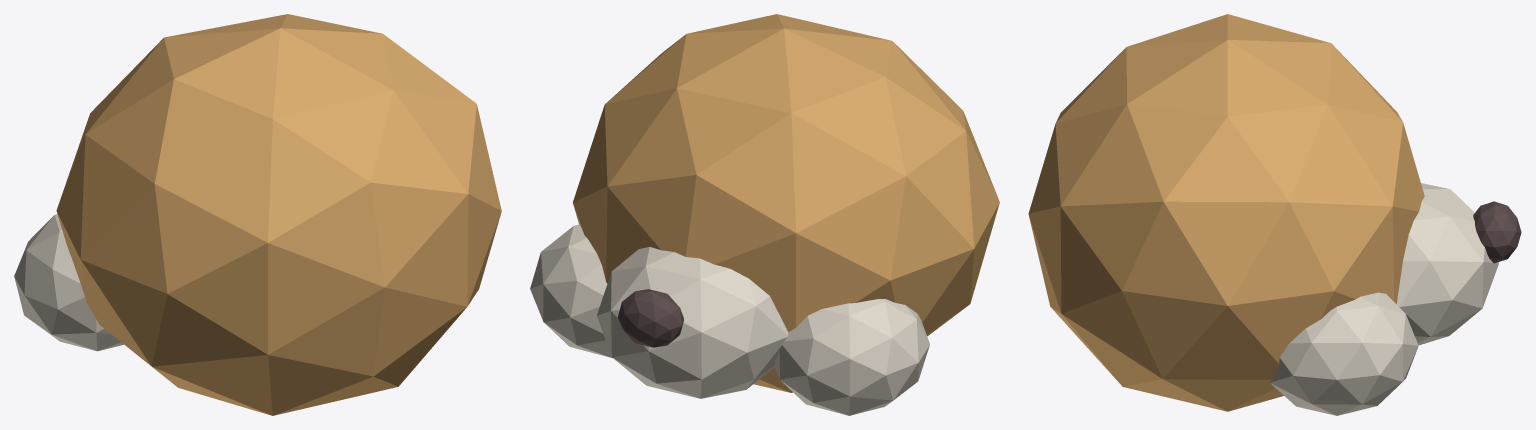
File: companion_head.glb
3 renders of one model, left to right at view 1: azimuth 30°, elevation 25°; view 2: azimuth 150°, elevation 25°; view 3: azimuth 270°, elevation 25°, orthographic. The views are drawn at different scales.
Parts seen in each view (by area): view 1: companion_head; view 2: companion_head; view 3: companion_head.
Part boxes in pixels (x1,y1,x2,y2): companion_head: [14, 14, 501, 415]; companion_head: [530, 14, 999, 415]; companion_head: [1028, 14, 1521, 415].
Size of the model in its own units: 0.3206 by 0.281 by 0.3609.
